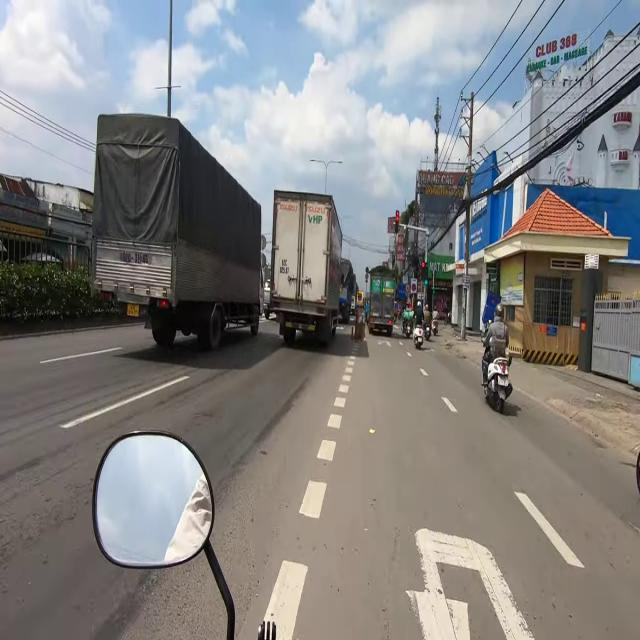bien_vang: (125, 301, 138, 318)
